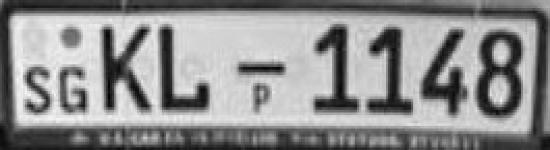-: (232, 58, 291, 81)
1: (364, 18, 418, 123), (310, 20, 364, 120)
4: (421, 19, 473, 124)
8: (474, 24, 529, 125)
G: (57, 62, 93, 119)
K: (99, 19, 155, 120)
L: (156, 18, 216, 119)
S: (22, 62, 55, 120)
